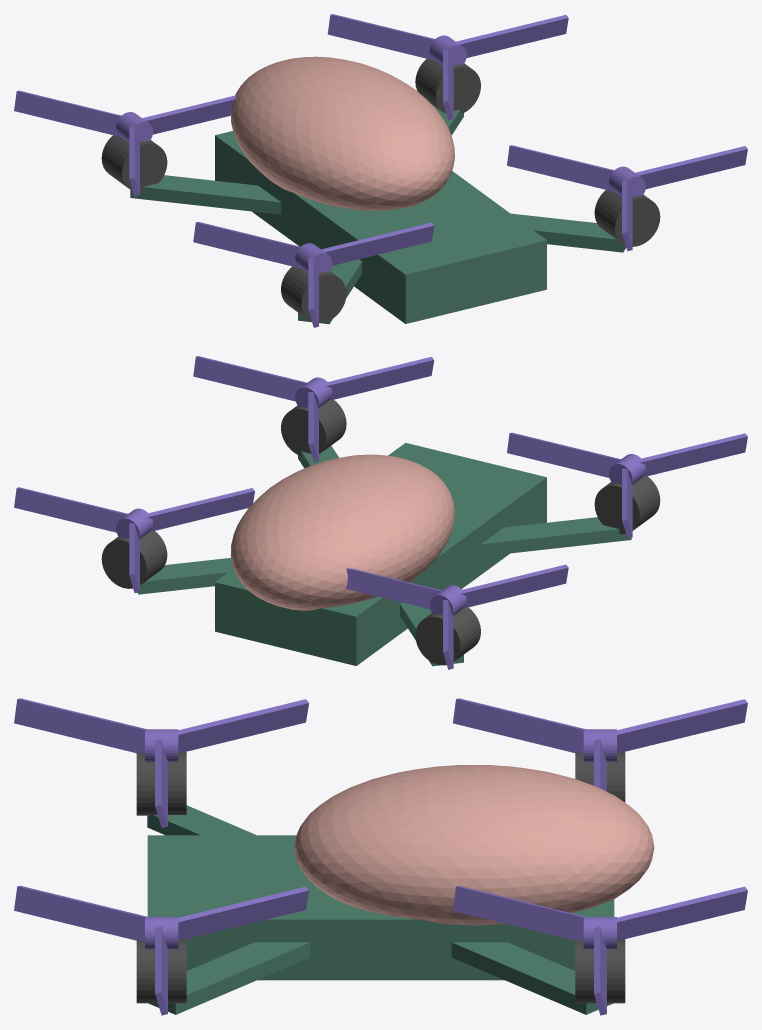
The model's file is Singularitum V5.glb.
3 renders of one model, top to bottom at view 1: azimuth 30°, elevation 25°; view 2: azimuth 150°, elevation 25°; view 3: azimuth 270°, elevation 25°, orthographic. The views are drawn at different scales.
Parts seen in each view (by area): view 1: canopy, frame_body, prop_1, prop_0, prop_2, prop_3, arm_3, motor_0, arm_0, motor_2, motor_1, motor_3 (+1 smaller); view 2: canopy, frame_body, prop_2, prop_0, prop_1, prop_3, arm_2, motor_3, motor_1, motor_0, motor_2, arm_1 (+1 smaller); view 3: canopy, frame_body, prop_1, prop_2, prop_0, prop_3, arm_1, arm_0, motor_0, motor_1, motor_2, arm_2 (+1 smaller).
Part boxes in pixels (x1,y1,x2,y2): canopy: [230, 56, 454, 210]; frame_body: [215, 131, 546, 323]; prop_1: [327, 14, 568, 119]; prop_0: [507, 145, 747, 251]; prop_2: [193, 222, 434, 327]; prop_3: [14, 90, 236, 196]; arm_3: [130, 175, 281, 214]; motor_0: [594, 190, 660, 246]; arm_0: [511, 213, 626, 252]; motor_2: [281, 266, 346, 323]; motor_1: [415, 59, 480, 113]; motor_3: [101, 135, 167, 192]; canopy: [230, 454, 454, 610]; frame_body: [215, 442, 546, 665]; prop_2: [507, 432, 747, 538]; prop_0: [193, 356, 434, 461]; prop_1: [14, 487, 254, 592]; prop_3: [346, 564, 568, 669]; arm_2: [480, 517, 631, 556]; motor_3: [415, 607, 480, 665]; motor_1: [101, 531, 167, 588]; motor_0: [281, 400, 346, 455]; motor_2: [594, 476, 660, 534]; arm_1: [138, 558, 233, 594]; canopy: [294, 765, 654, 925]; frame_body: [147, 835, 614, 980]; prop_1: [453, 885, 747, 1015]; prop_2: [14, 698, 308, 827]; prop_0: [14, 885, 308, 1015]; prop_3: [453, 698, 747, 791]; arm_1: [451, 942, 613, 1014]; arm_0: [148, 942, 310, 1014]; motor_0: [136, 939, 186, 1003]; motor_1: [575, 939, 625, 1003]; motor_2: [136, 752, 186, 815]; arm_2: [147, 805, 256, 835].
Size of the model in its own units: 0.2097 by 0.0516 by 0.2201.
